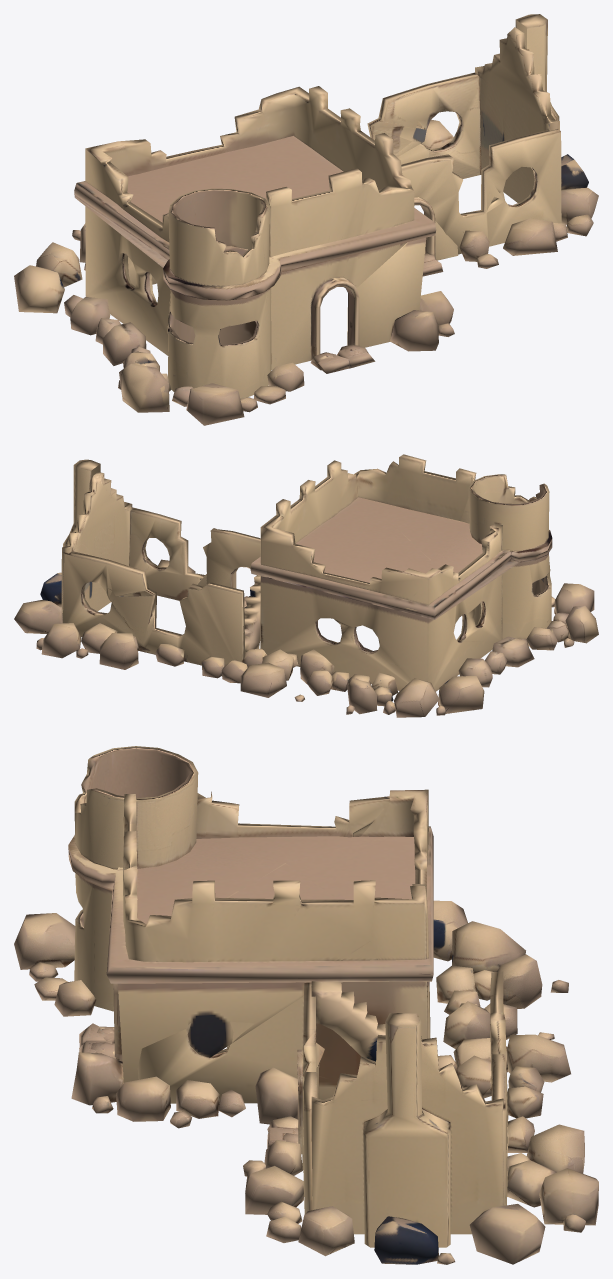
File: meshy-c7-d3.glb
3 views of the same model, one above another, from view 1: azimuth 30°, elevation 25°; view 2: azimuth 150°, elevation 25°; view 3: azimuth 270°, elevation 25° (orthographic). The views are drawn at different scales.
Bounding box in the file's own units: 1 × 0.3045 × 0.7246.
Materials: 1 (1 with a texture image).
